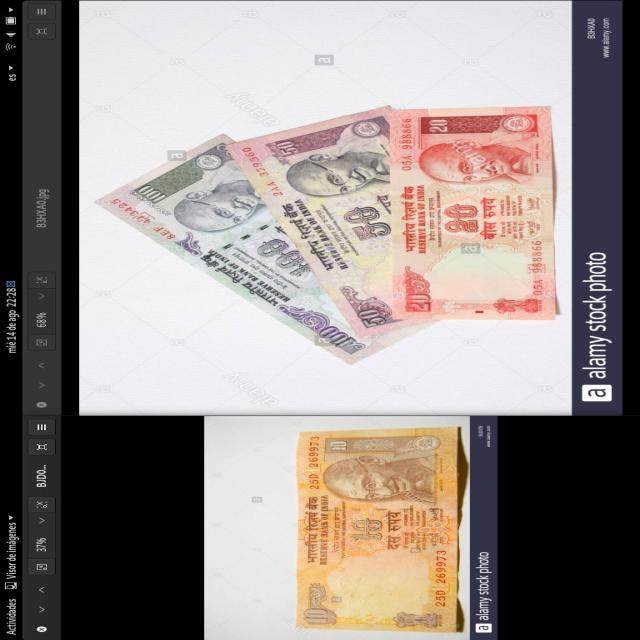20IndianRupees: (395, 106, 558, 327)
